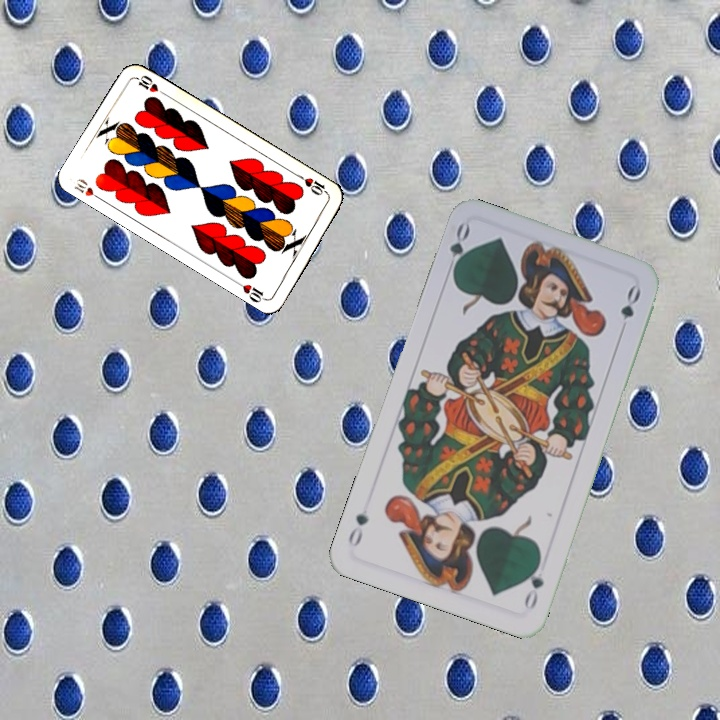GO: (442, 220, 473, 280), (520, 554, 547, 612)
H10: (70, 174, 106, 204), (295, 171, 331, 198)
